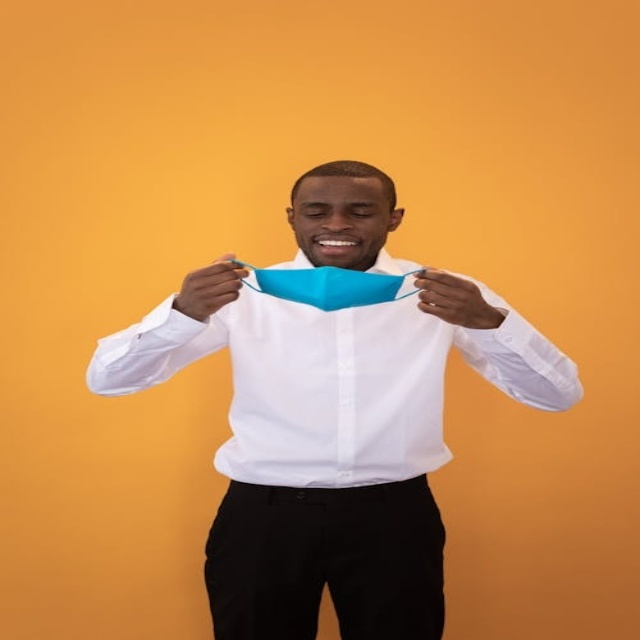Sin_gafas: (294, 201, 381, 222)
Sin_guantes: (408, 260, 503, 329), (169, 249, 253, 319)
Sin_mascara: (302, 230, 376, 257)
